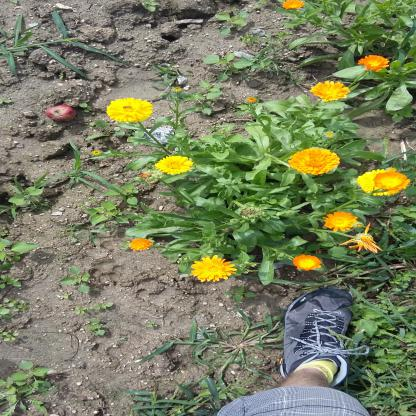marigold: (256, 179, 284, 223), (148, 77, 173, 123), (98, 264, 122, 310), (80, 66, 101, 106), (155, 225, 174, 262), (213, 58, 230, 90), (173, 14, 190, 41), (55, 28, 69, 58), (256, 96, 271, 122), (238, 265, 251, 287), (0, 112, 10, 135)
